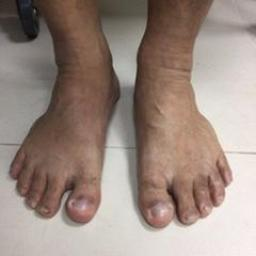Dorsal View -Both Feet-: (4, 22, 239, 244)
